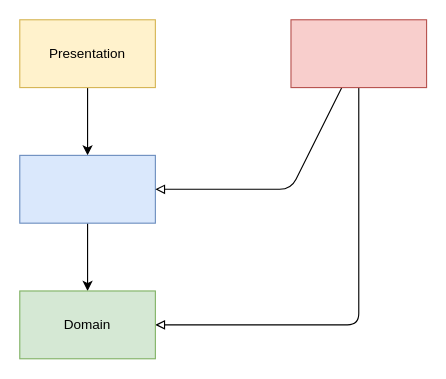
Some shapes in this 446 by 379 pixel diagram are drawn without their labels. Here are the shapes that lost their labels. From the top down, the box of each, then its label:
(290, 19, 427, 88): Infrastructure
(19, 154, 155, 223): UseCase
